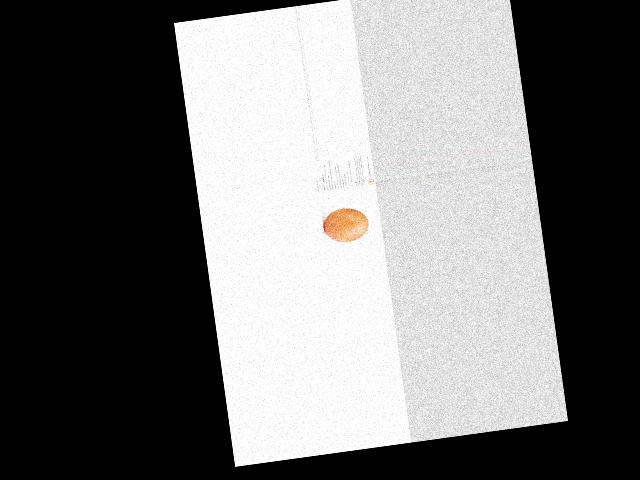egg: (322, 205, 370, 244)
